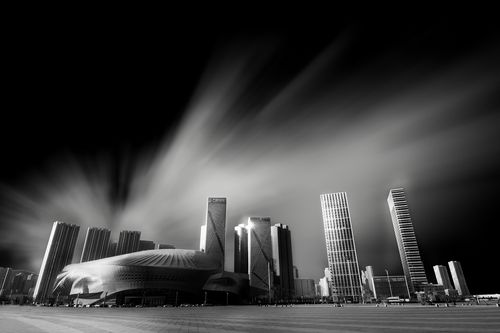buildings: (313, 187, 370, 308), (384, 187, 440, 307)
